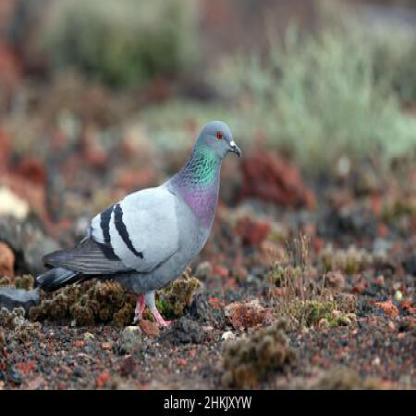Flying Rat: (34, 120, 244, 333)
